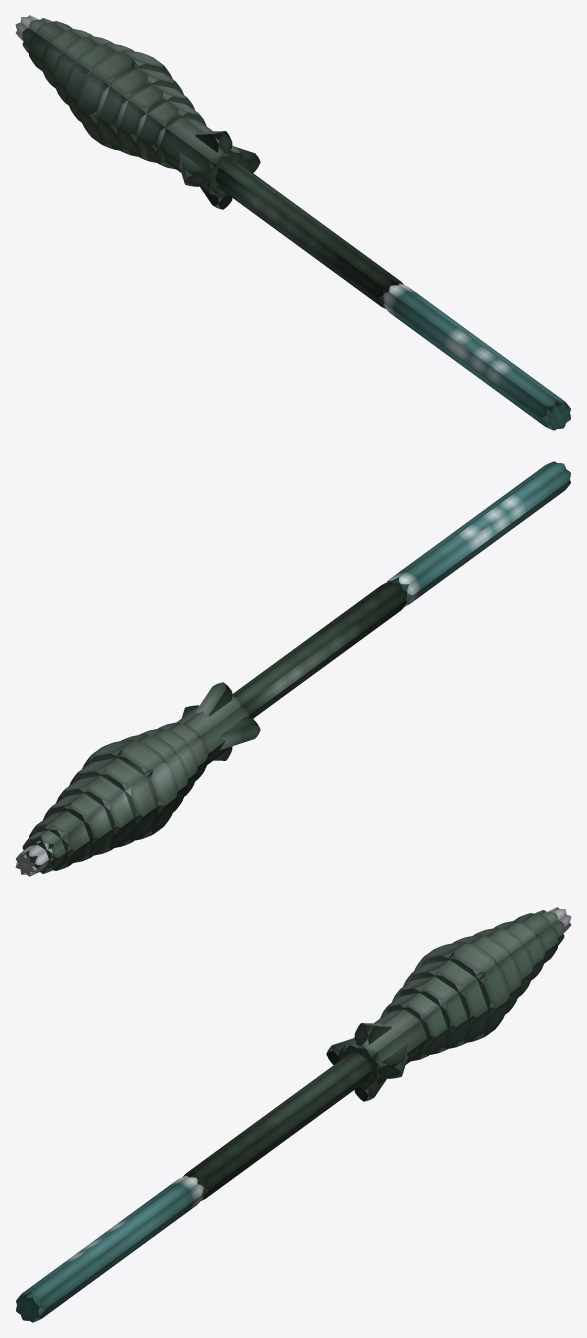
The model's file is rpg7_rocket.fbx.
3 renders of one model, top to bottom at view 1: azimuth 30°, elevation 25°; view 2: azimuth 150°, elevation 25°; view 3: azimuth 330°, elevation 25°, orthographic.
Parts seen in each view (by area): view 1: octagon, octagon_3, octagon_12, octagon_9, octagon_2, octagon_19, octagon_16, octagon_11, octagon_1, octagon_21, octagon_20, octagon_4 (+16 smaller); view 2: octagon_3, octagon, octagon_12, octagon_9, octagon_19, octagon_16, octagon_2, octagon_21, octagon_20, octagon_11, octagon_1, octagon_15 (+16 smaller); view 3: octagon_1, octagon_2, octagon_11, octagon_10, octagon_3, octagon_18, octagon_17, octagon, octagon_12, octagon_22, octagon_23, octagon_5 (+16 smaller).
Part boxes in pixels (<box>): octagon: <box>389,285,566,428</box>; octagon_3: <box>383,292,570,423</box>; octagon_12: <box>208,161,396,297</box>; octagon_9: <box>209,156,391,302</box>; octagon_2: <box>383,303,570,426</box>; octagon_19: <box>65,63,129,127</box>; octagon_16: <box>77,44,153,100</box>; octagon_11: <box>206,174,403,306</box>; octagon_1: <box>399,283,566,430</box>; octagon_21: <box>53,53,147,136</box>; octagon_20: <box>64,37,167,113</box>; octagon_4: <box>158,114,232,172</box>; octagon_3: <box>393,469,570,595</box>; octagon: <box>399,463,565,600</box>; octagon_12: <box>242,589,407,715</box>; octagon_9: <box>235,583,402,705</box>; octagon_19: <box>123,754,187,818</box>; octagon_16: <box>100,735,175,792</box>; octagon_2: <box>387,479,570,604</box>; octagon_21: <box>104,746,197,829</box>; octagon_20: <box>83,730,187,807</box>; octagon_11: <box>249,599,407,718</box>; octagon_1: <box>389,461,556,606</box>; octagon_15: <box>144,761,177,807</box>; octagon_1: <box>20,1177,197,1320</box>; octagon_2: <box>16,1184,203,1314</box>; octagon_11: <box>190,1053,378,1189</box>; octagon_10: <box>195,1048,377,1194</box>; octagon_3: <box>16,1195,203,1318</box>; octagon_18: <box>457,955,521,1020</box>; octagon_17: <box>434,936,509,991</box>; octagon: <box>20,1175,187,1322</box>; octagon_12: <box>183,1066,380,1198</box>; octagon_22: <box>438,945,533,1028</box>; octagon_23: <box>420,929,522,1005</box>; octagon_5: <box>354,1006,428,1063</box>.
Size of the model in its own units: 19.28 by 19.28 by 204.
Materials: 1 (1 with a texture image).
